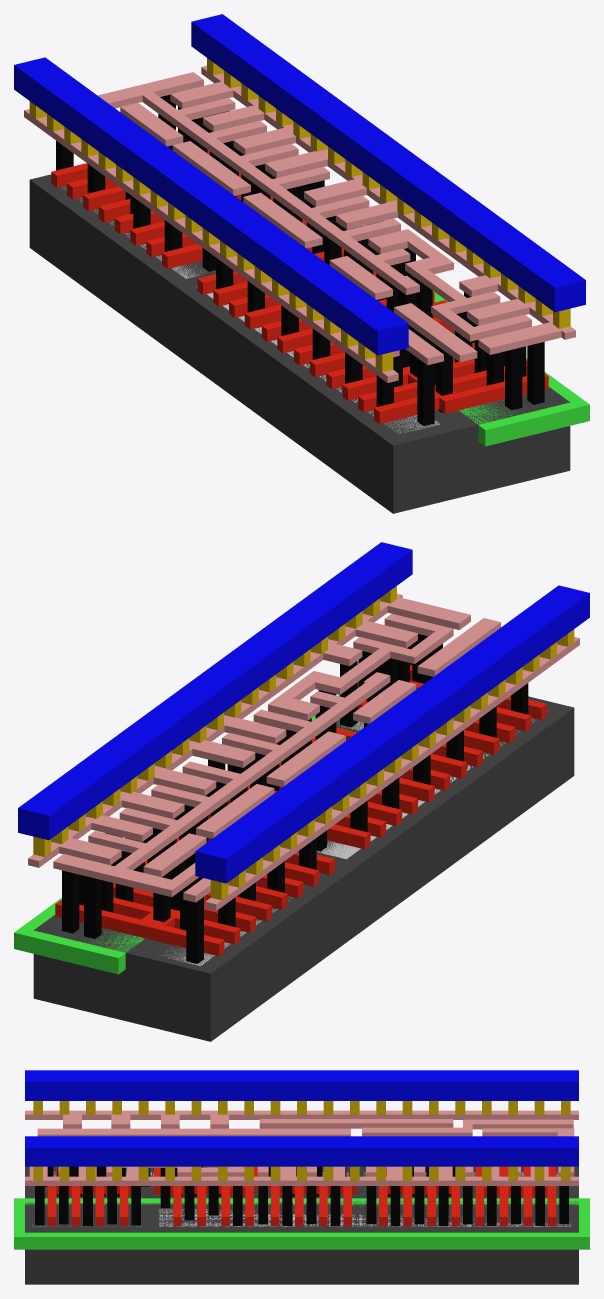
Rendered from sky130_fd_sc_hd__o2111ai_4.obj.
3 renders of one model, top to bottom at view 1: azimuth 30°, elevation 25°; view 2: azimuth 150°, elevation 25°; view 3: azimuth 270°, elevation 25°, orthographic. The views are drawn at different scales.
Visible parts, largest first — view 1: subs, metal1, li, licon, poly, mcon, nwell, diff; view 2: subs, metal1, li, poly, licon, mcon, nwell, diff; view 3: metal1, subs, li, nwell, licon, poly, mcon, tap.
Part boxes in pixels (box(x1,y1,x2,y2)): subs: box(29, 174, 570, 513); metal1: box(14, 14, 585, 355); li: box(24, 65, 575, 382); licon: box(56, 95, 544, 426); poly: box(51, 150, 548, 423); mcon: box(29, 58, 570, 372); nwell: box(433, 291, 589, 446); diff: box(64, 186, 440, 433); subs: box(33, 696, 574, 1041); metal1: box(18, 542, 589, 883); li: box(28, 593, 579, 910); poly: box(55, 665, 546, 956); licon: box(62, 634, 528, 963); mcon: box(33, 586, 574, 900); nwell: box(14, 682, 358, 974); diff: box(164, 711, 548, 965); metal1: box(25, 1070, 578, 1166); subs: box(25, 1166, 578, 1284); li: box(25, 1110, 578, 1185); nwell: box(14, 1198, 589, 1249); licon: box(35, 1166, 568, 1225); poly: box(47, 1166, 556, 1226); mcon: box(33, 1101, 570, 1180); tap: box(32, 1209, 571, 1226).
Bounding box in the file's own units: 3.2 × 2.74 × 10.04.
